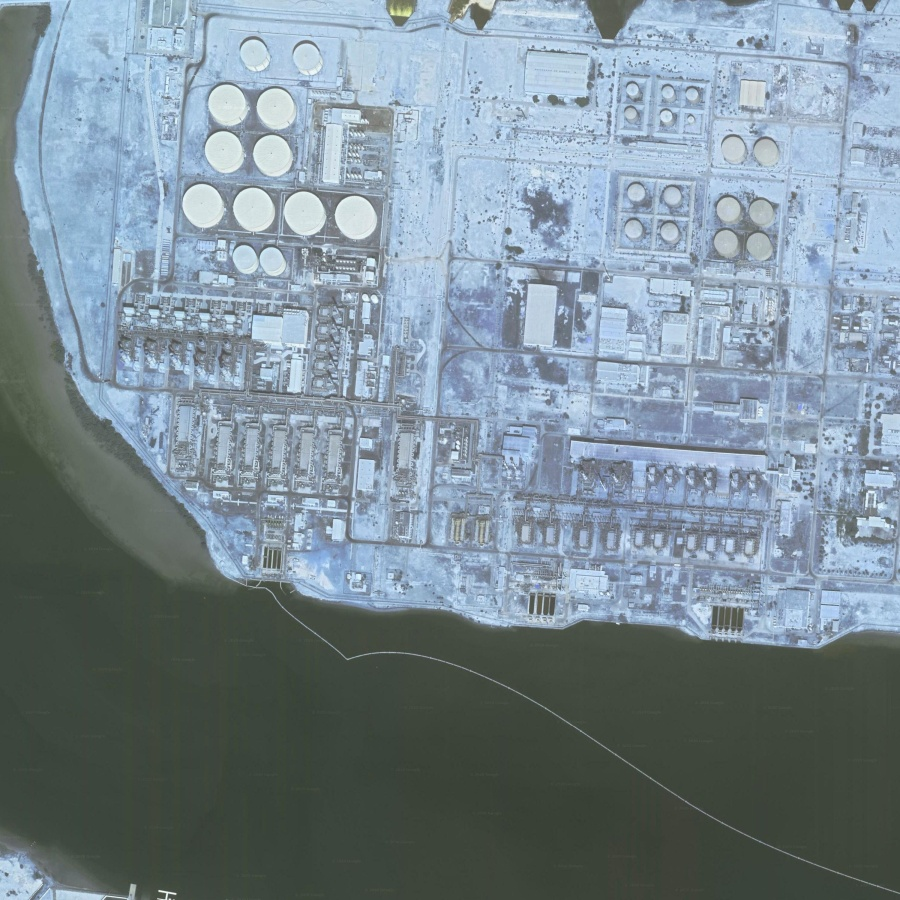PowerPlant: (110, 24, 410, 413)
